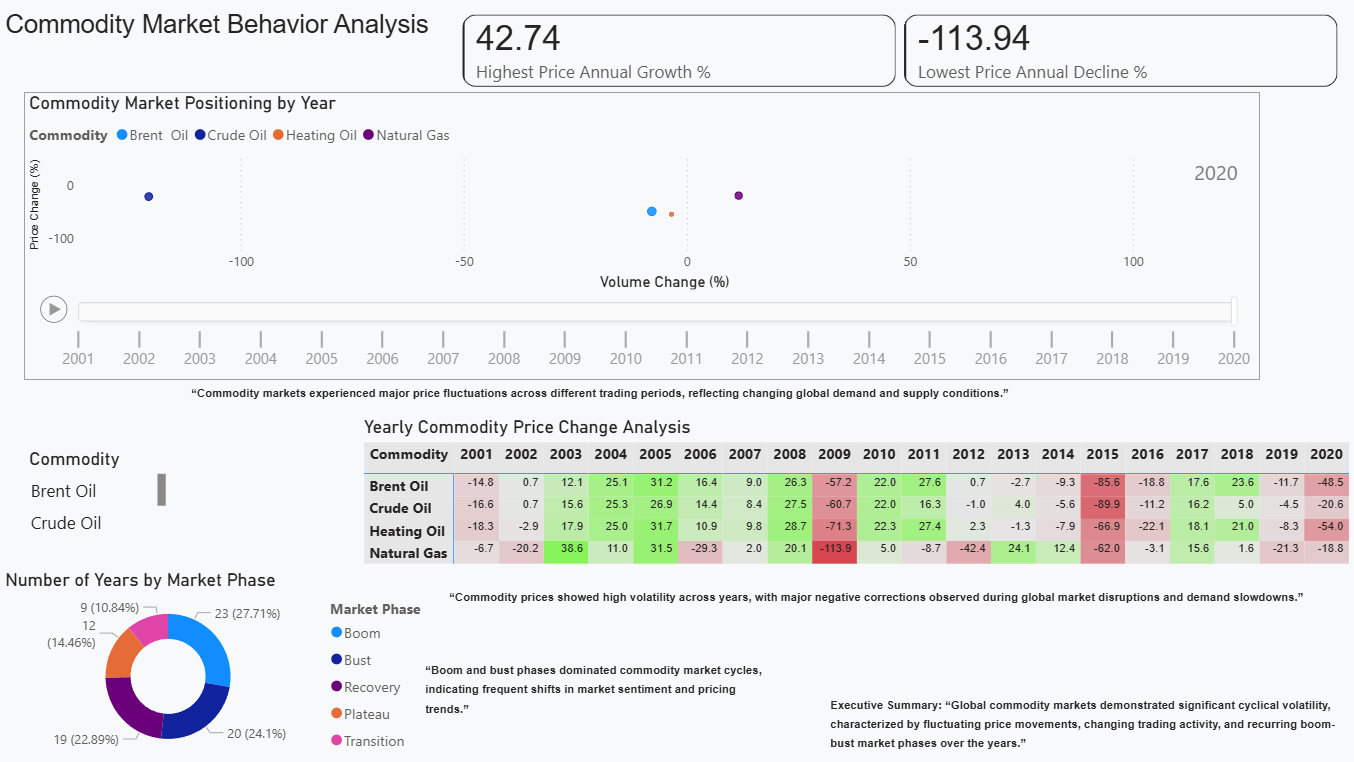

The page's visual inventory and layout, read from the dashboard file:
{"tool":"powerbi","page":{"name":"Page 4","canvas":[1280,720],"ordinal":3},"visuals":[{"type":"donutChart","fields":{"Category":["energy Market Phase.Market_Phase"],"Y":["CountNonNull(energy Market Phase.Year)"]},"box":[0,538,416.9,181.7],"z":0},{"type":"listSlicer","fields":{"Values":["energy Market Phase.Commodity"]},"box":[22.5,423.9,138,90.1],"z":1000},{"type":"pivotTable","title":"Yearly Commodity Price Change Analysis","fields":{"Columns":["energy Market Phase.Year"],"Values":["Sum(energy Market Phase.Percentage_Price_Change)"],"Rows":["energy Market Phase.Commodity"]},"box":[336.3,394.4,943.7,153.5],"z":2000},{"type":"scatterChart","title":" Commodity Market Positioning by Year","fields":{"Series":["energy Market Phase.Commodity"],"Size":["Sum(energy Market Phase.Total_Volume)"],"X":["Sum(energy Market Phase.Percentage_Volume_Change)"],"Y":["Sum(energy Market Phase.Percentage_Price_Change)"],"Play":["energy Market Phase.Year"]},"box":[22.5,90.1,1160.6,270.4],"z":2001},{"type":"cardVisual","fields":{"Data":["energy Market Phase.Highest Price Annual Growth","energy Market Phase.Lowest Price Annual Decline"]},"box":[416.9,0,857.7,102.8],"z":2002},{"type":"textbox","box":[0,7,464.8,45.1],"z":2003},{"type":"textbox","box":[174.6,356.3,928.2,35.2],"z":2004},{"type":"textbox","box":[416.9,547.9,863.4,35.2],"z":2005},{"type":"textbox","box":[394.4,616.9,331,70.4],"z":2006},{"type":"textbox","box":[774.6,649.3,505.6,70.4],"z":2007}]}

Visuals, with their boxes in screenshot pixels (x1, y1, x2, y2), scaled from the page's 1280x720 canvas onto the 1354x762 screenshot:
donutChart - energy Market Phase.Market_Phase x CountNonNull(energy Market Phase.Year): left=0, top=569, right=441, bottom=761
listSlicer - energy Market Phase.Commodity: left=24, top=449, right=170, bottom=544
"Yearly Commodity Price Change Analysis" pivotTable: left=356, top=417, right=1353, bottom=580
" Commodity Market Positioning by Year" scatterChart: left=24, top=95, right=1251, bottom=382
cardVisual - energy Market Phase.Highest Price Annual Growth x energy Market Phase.Lowest Price Annual Decline: left=441, top=0, right=1348, bottom=109
textbox: left=0, top=7, right=492, bottom=55
textbox: left=185, top=377, right=1167, bottom=414
textbox: left=441, top=580, right=1353, bottom=617
textbox: left=417, top=653, right=767, bottom=727
textbox: left=819, top=687, right=1353, bottom=761
